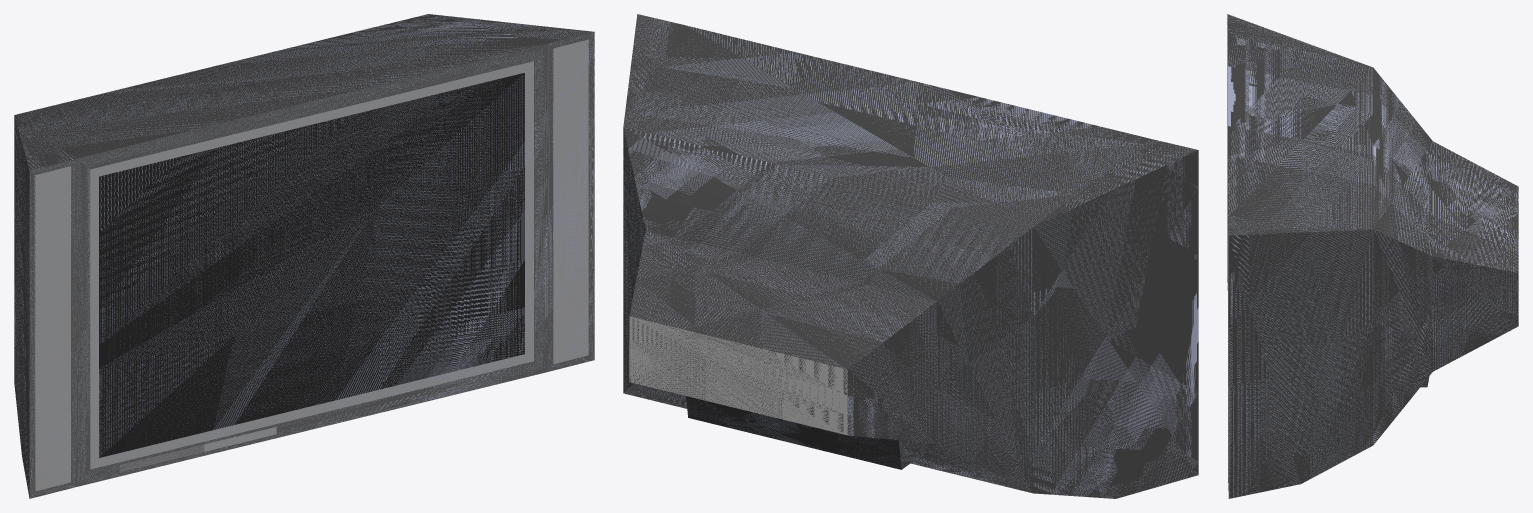
3 views of the same model, side by side, from view 1: azimuth 30°, elevation 25°; view 2: azimuth 150°, elevation 25°; view 3: azimuth 270°, elevation 25° (orthographic). The views are drawn at different scales.
Parts seen in each view (by area): view 1: SketchUp (×7); view 2: SketchUp; view 3: SketchUp.
Part boxes in pixels (<box>): SketchUp (×7): <box>14,14,594,498</box>; SketchUp: <box>623,14,1198,498</box>; SketchUp: <box>1227,14,1518,498</box>.
Size of the model in its own units: 0.9018 by 0.5013 by 0.5.
